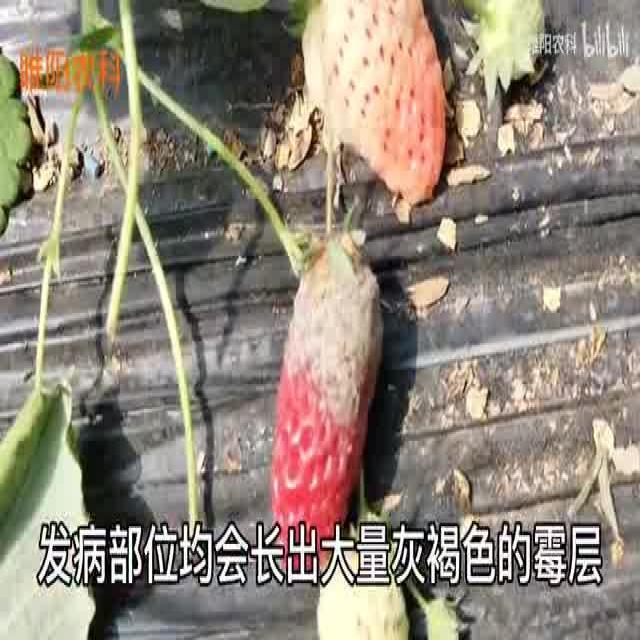Fruta sana: (302, 0, 449, 203), (464, 0, 549, 105)
Moho gris: (272, 227, 388, 585)
